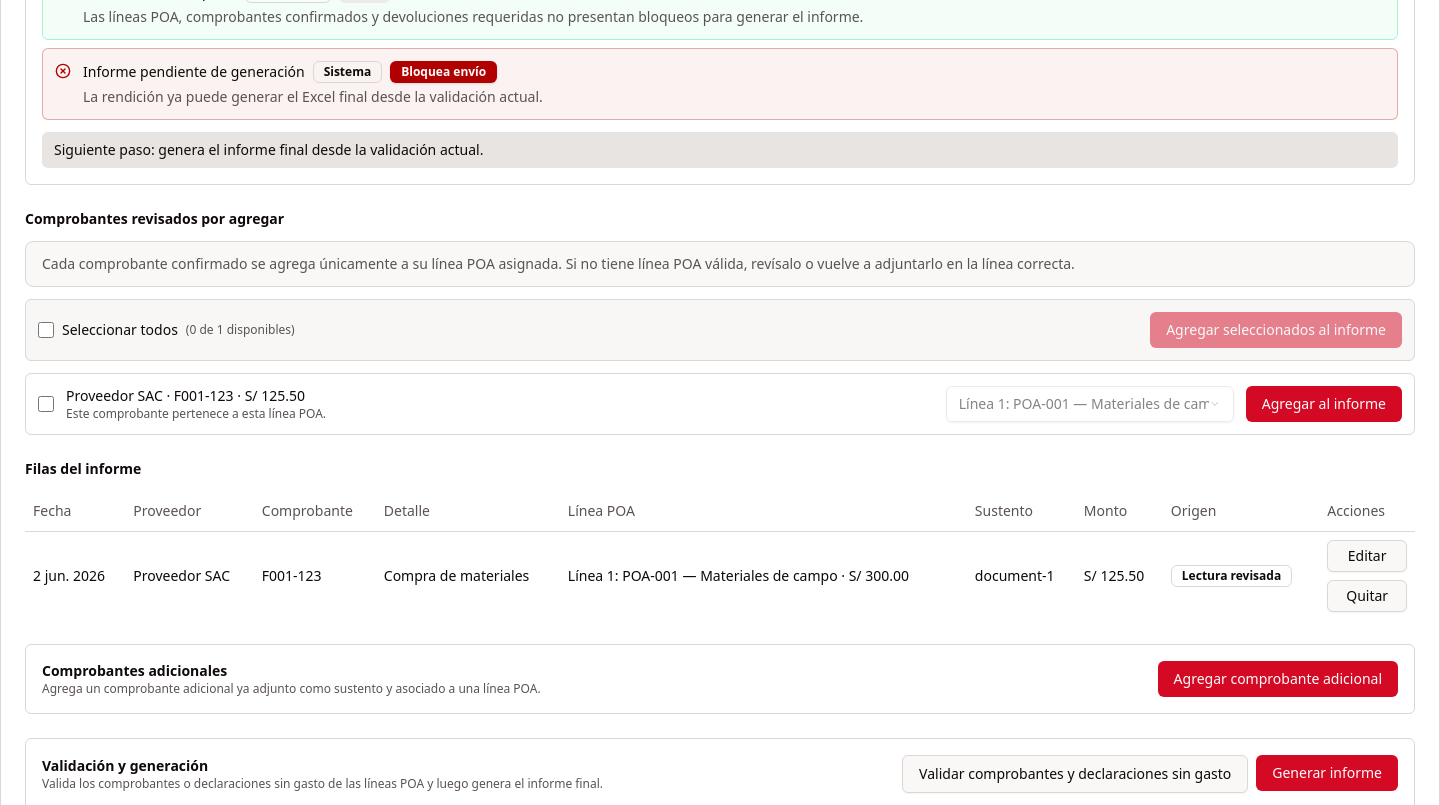
Scenario: StructuredRenditionReportCard › libera el bloqueo solo cuando Reintentar sincronización completa el refetch
The image size is (1440, 805).
(page scrolled)
Click the checkbox named "Seleccionar Proveedor SAC".
click(46, 404)  # box 38,396 -> 54,412
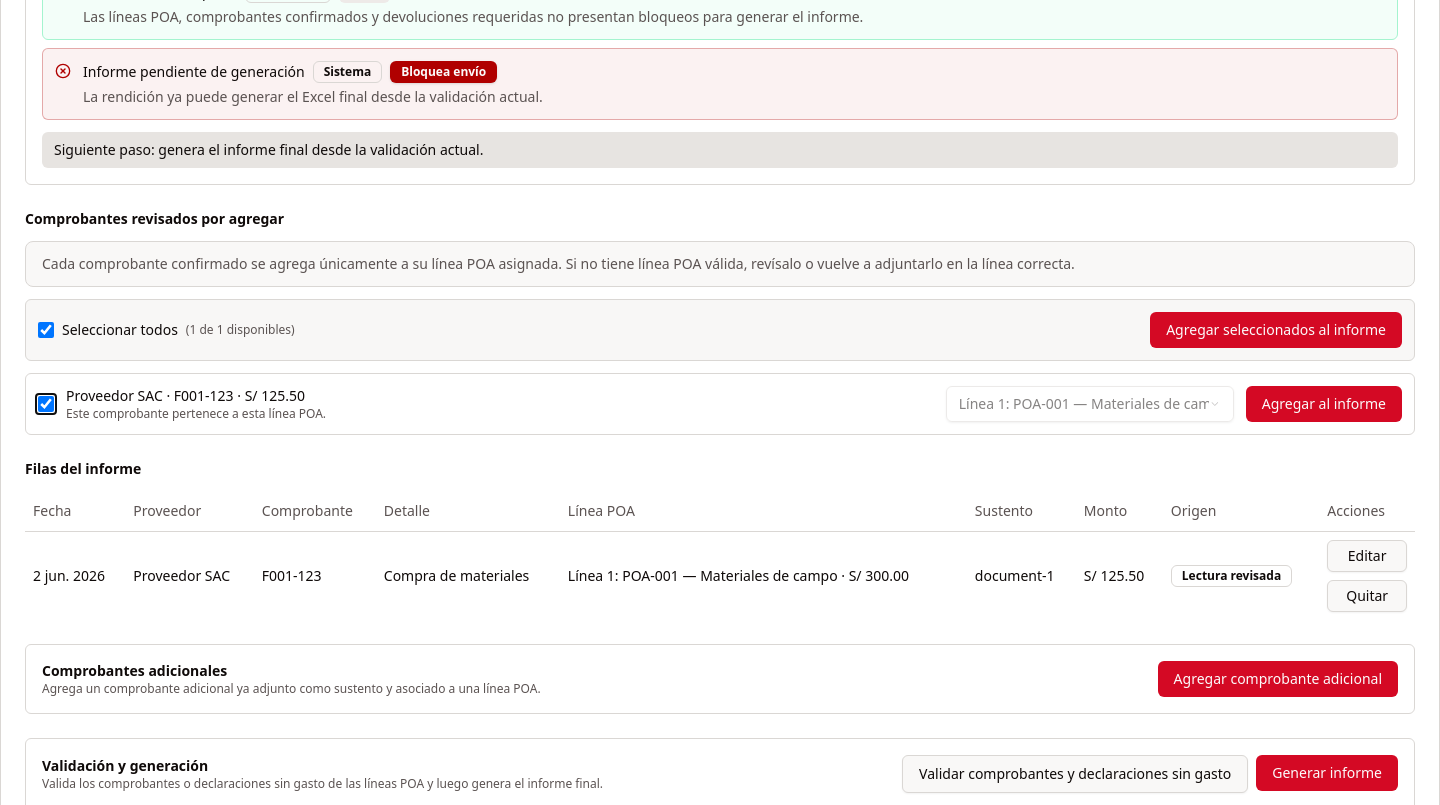
Click the button "Agregar al informe".
click(1324, 404)  # box 1246,386 -> 1402,422
(page scrolled)
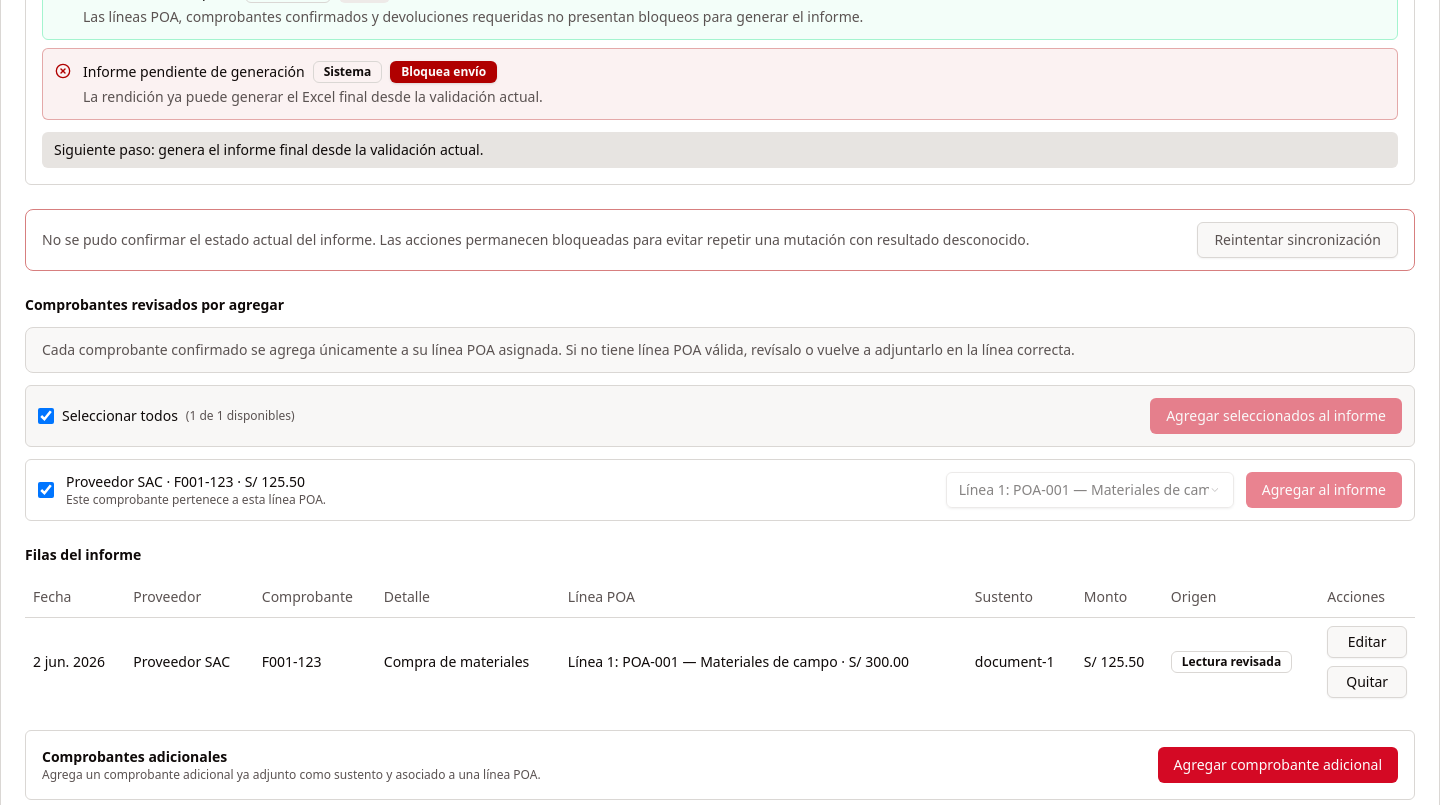
Click the button "Reintentar sincronización".
click(1298, 240)  # box 1197,222 -> 1398,258
(page scrolled)
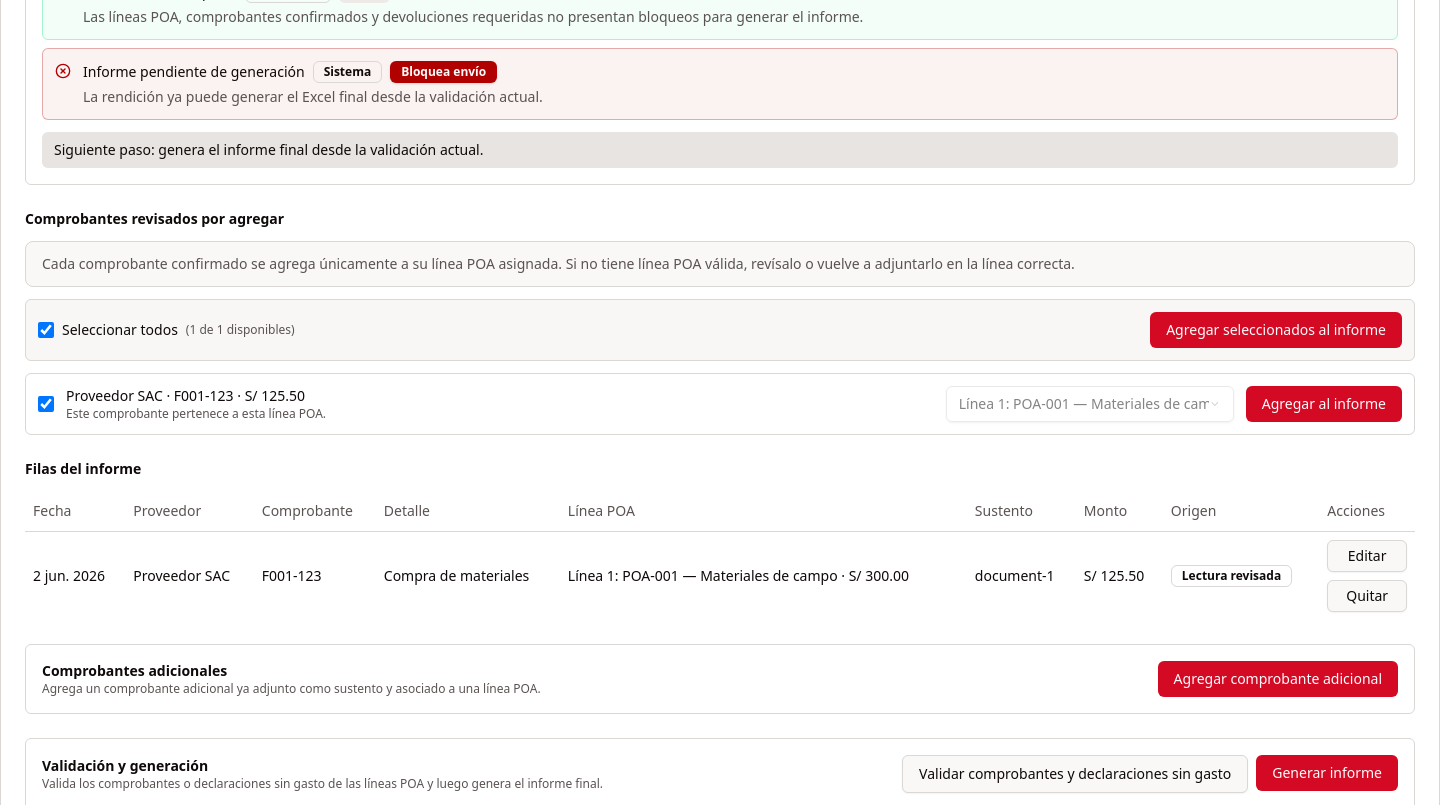
Result: the button "Reintentar sincronización" is gone
Result: the button "Agregar al informe" is enabled at 1246,386 -> 1402,422
Result: the button "Agregar seleccionados al informe" is enabled at 1150,312 -> 1402,348
